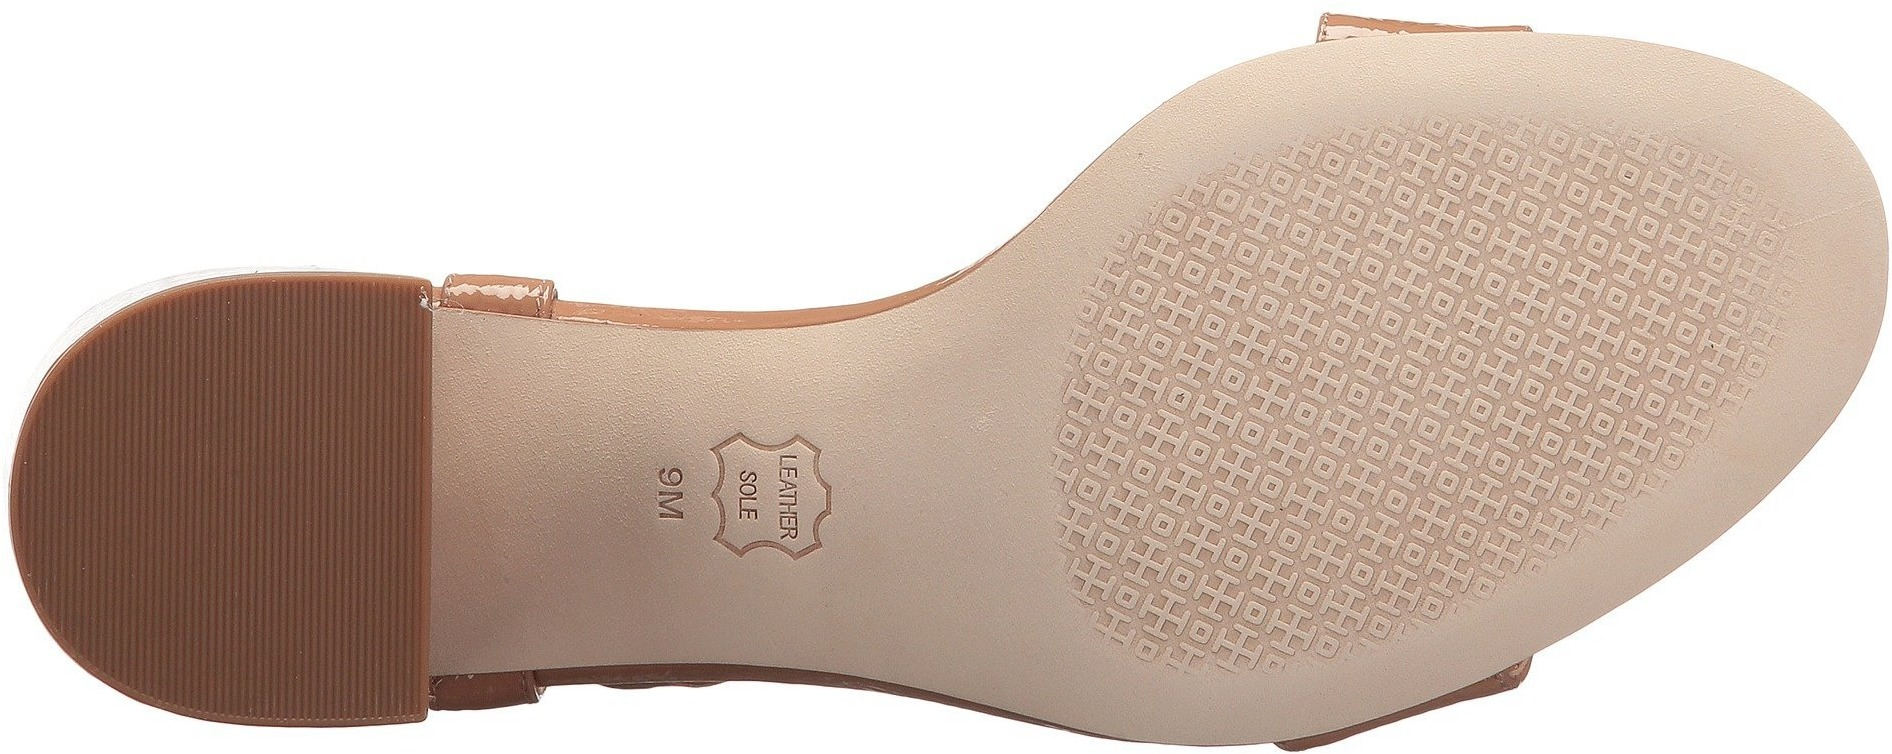exclude: (424, 235, 927, 740), (1273, 8, 1564, 58)
other: (68, 386, 364, 684)
